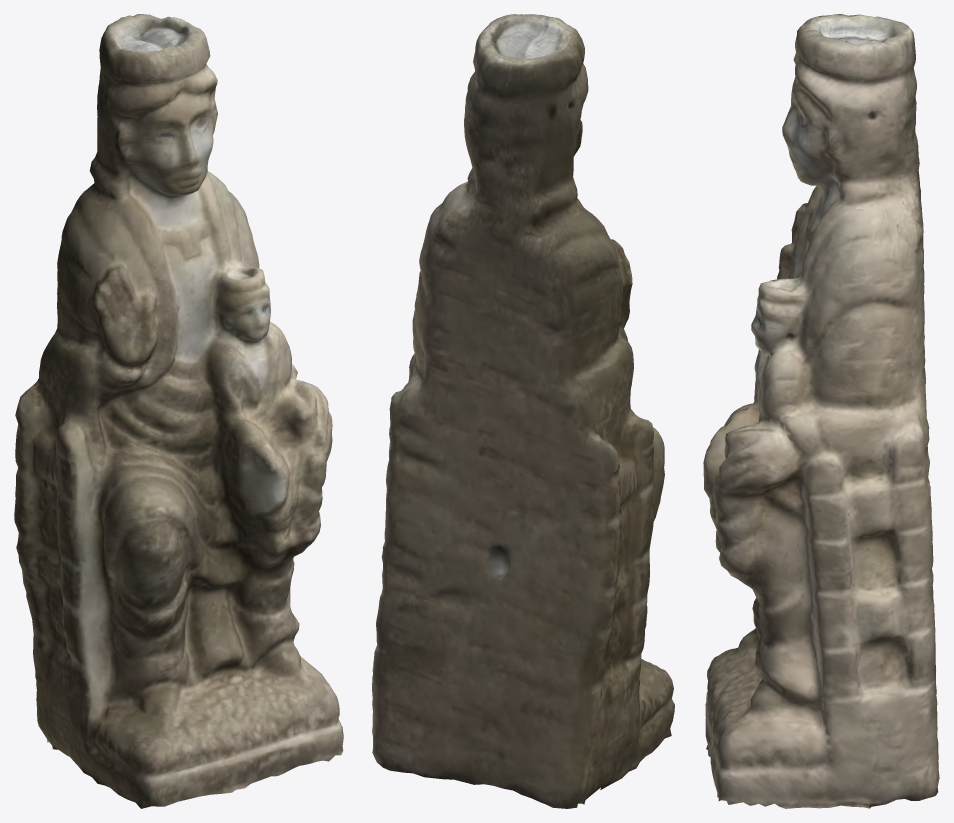
File: gothic_statue.glb
3 renders of one model, left to right at view 1: azimuth 30°, elevation 25°; view 2: azimuth 150°, elevation 25°; view 3: azimuth 270°, elevation 25°, orthographic. The views are drawn at different scales.
Parts seen in each view (by area): view 1: Object_2; view 2: Object_2; view 3: Object_2.
Boxes of the visible parts, box(x1,y1,x2,y2) form: Object_2: box(14, 14, 343, 808); Object_2: box(372, 14, 674, 808); Object_2: box(703, 14, 939, 808).
Bounding box in the file's own units: 2.51 × 7.13 × 2.09.
1 material, 1 textured.
